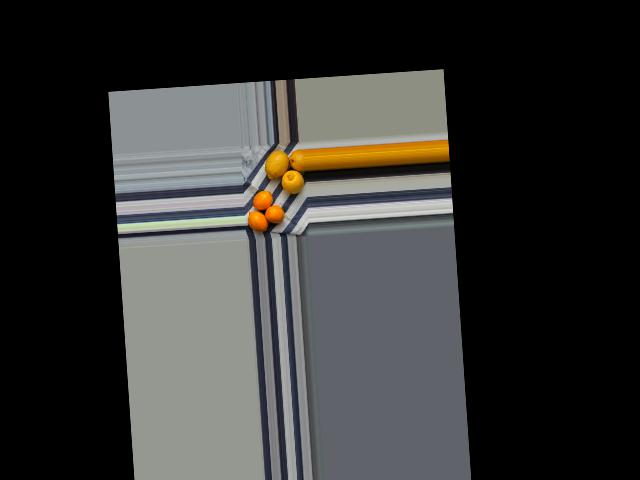lemon: (287, 146, 306, 172)
